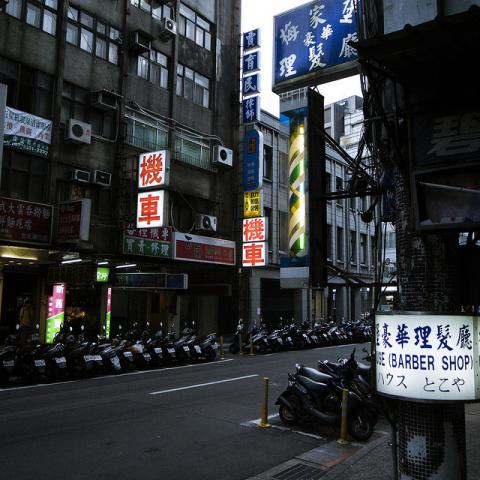motorcycle: (240, 329, 374, 391), (294, 346, 380, 428), (274, 372, 374, 442), (52, 323, 95, 378), (99, 325, 152, 369), (181, 320, 218, 361), (18, 338, 48, 382), (138, 321, 164, 368), (152, 322, 176, 369), (0, 333, 21, 382), (167, 324, 191, 364), (96, 342, 124, 376), (112, 340, 134, 372), (184, 339, 202, 364)
